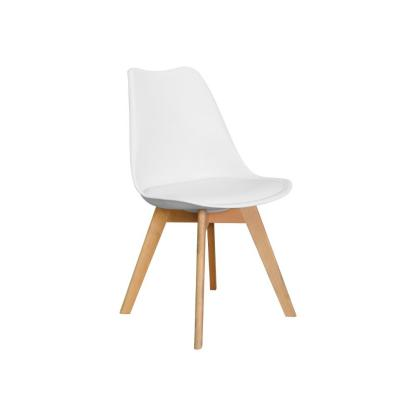chair: (116, 57, 304, 350)
